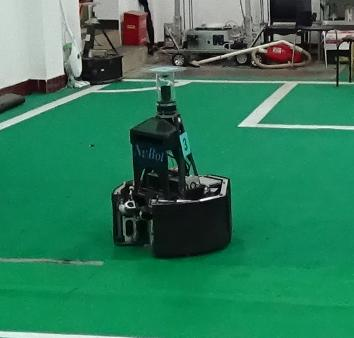robot: (107, 65, 236, 259)
